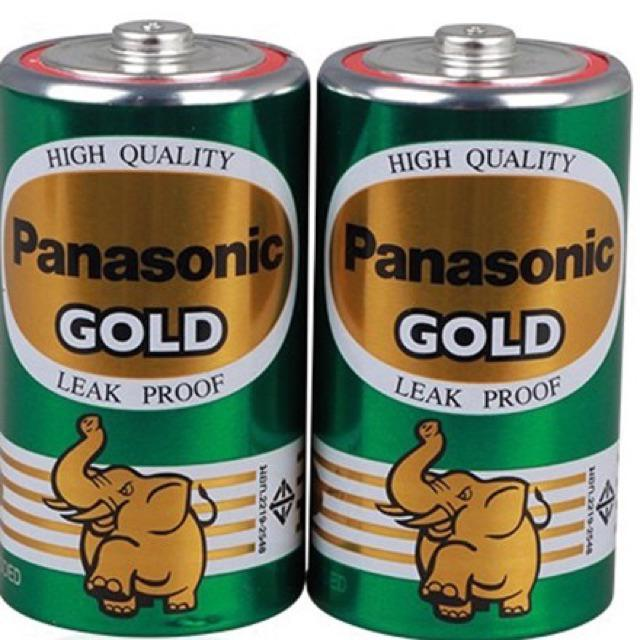Battery: (307, 21, 634, 640), (1, 16, 314, 640)
